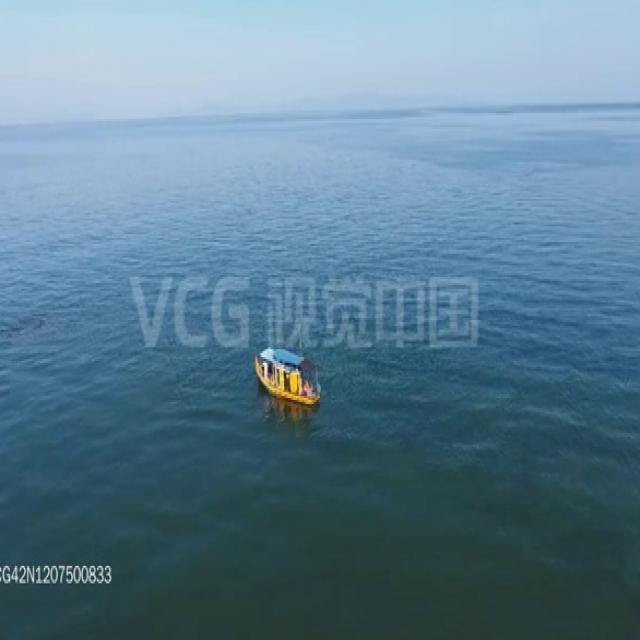fishing boat: (247, 337, 331, 418)
